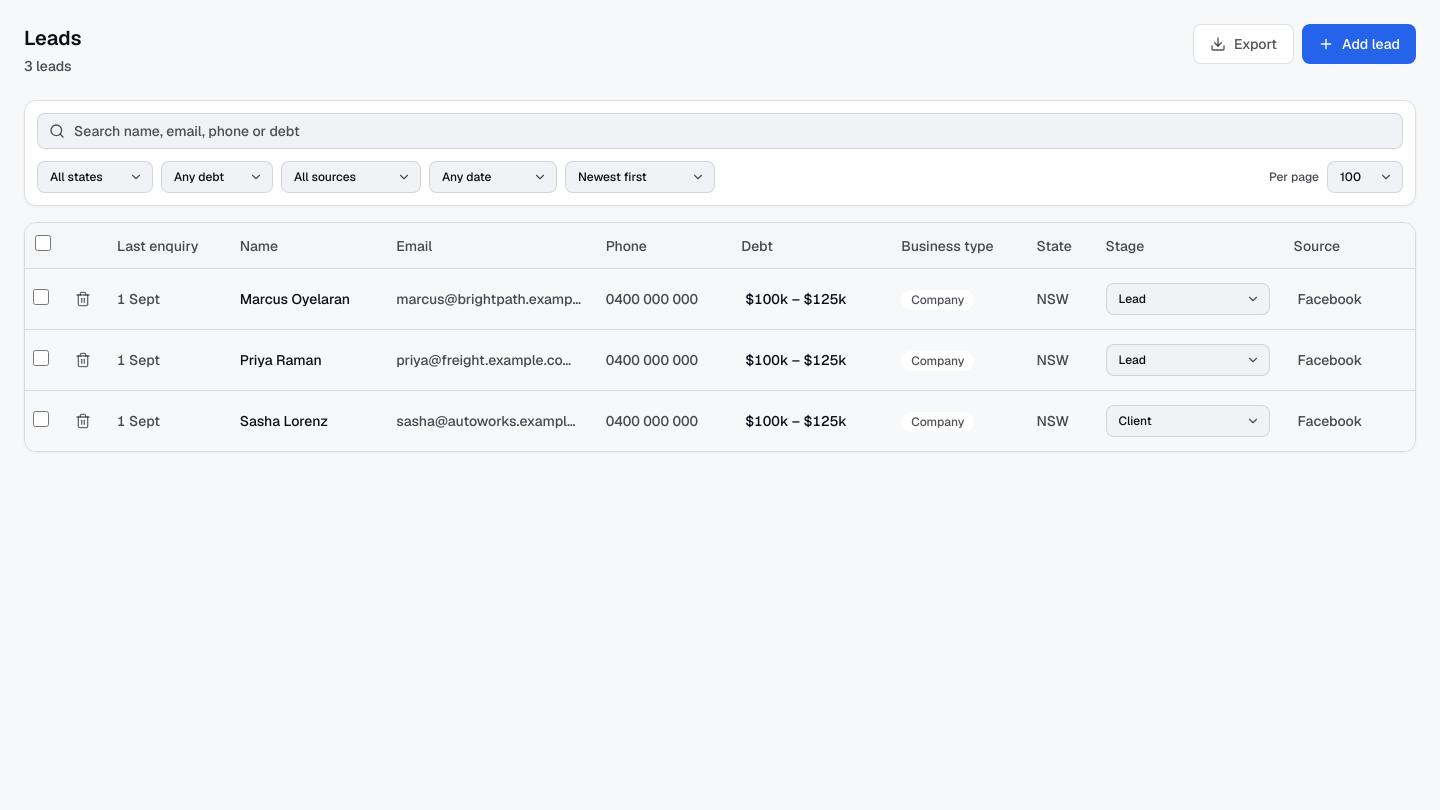
Scenario: deleting from the list › keeps the dialog open and says so when the delete fails
Click the button named "Delete Marcus Oyelaran": (83, 299) x1=69 y1=285 x2=97 y2=313
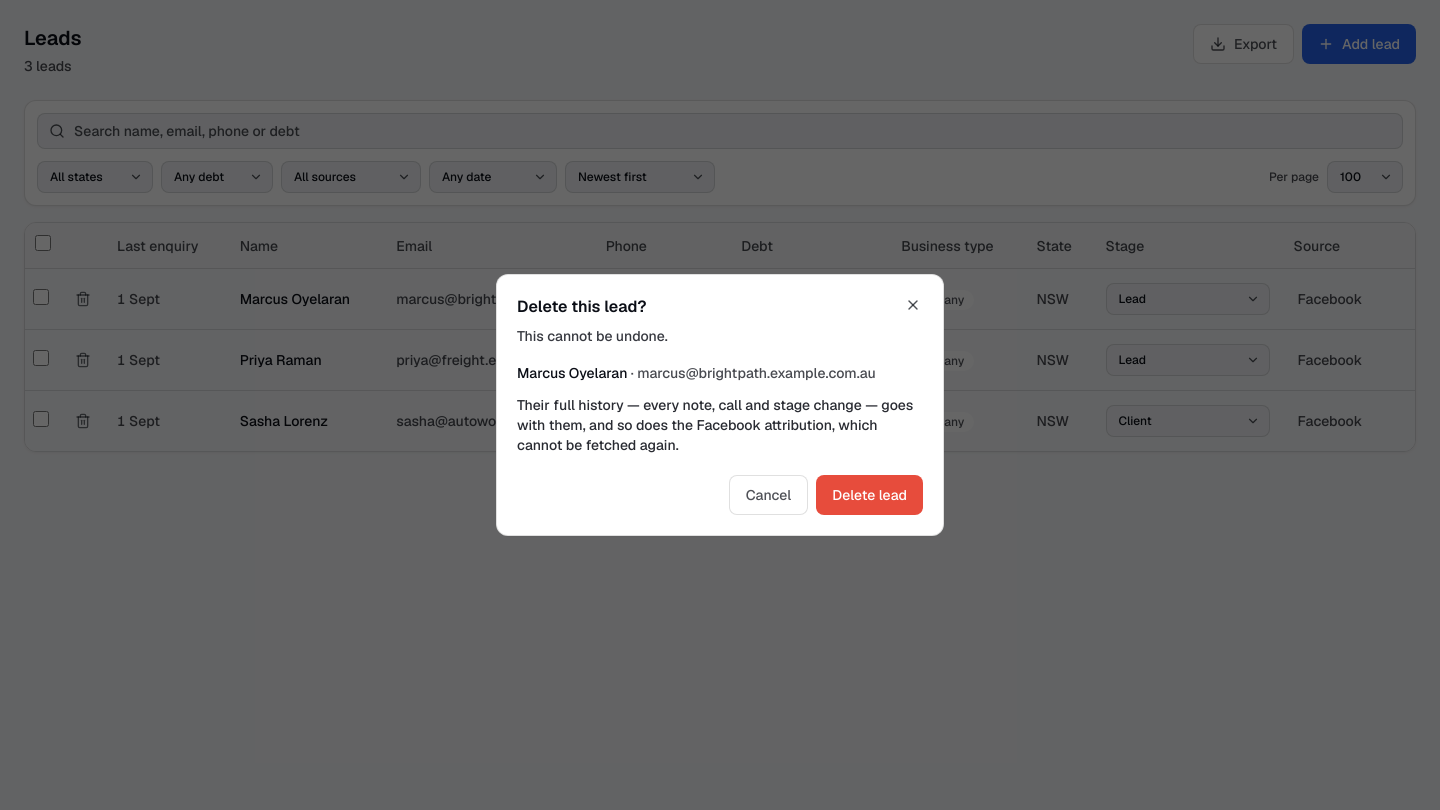
Click the button "Delete lead": (870, 495) x1=816 y1=475 x2=923 y2=515
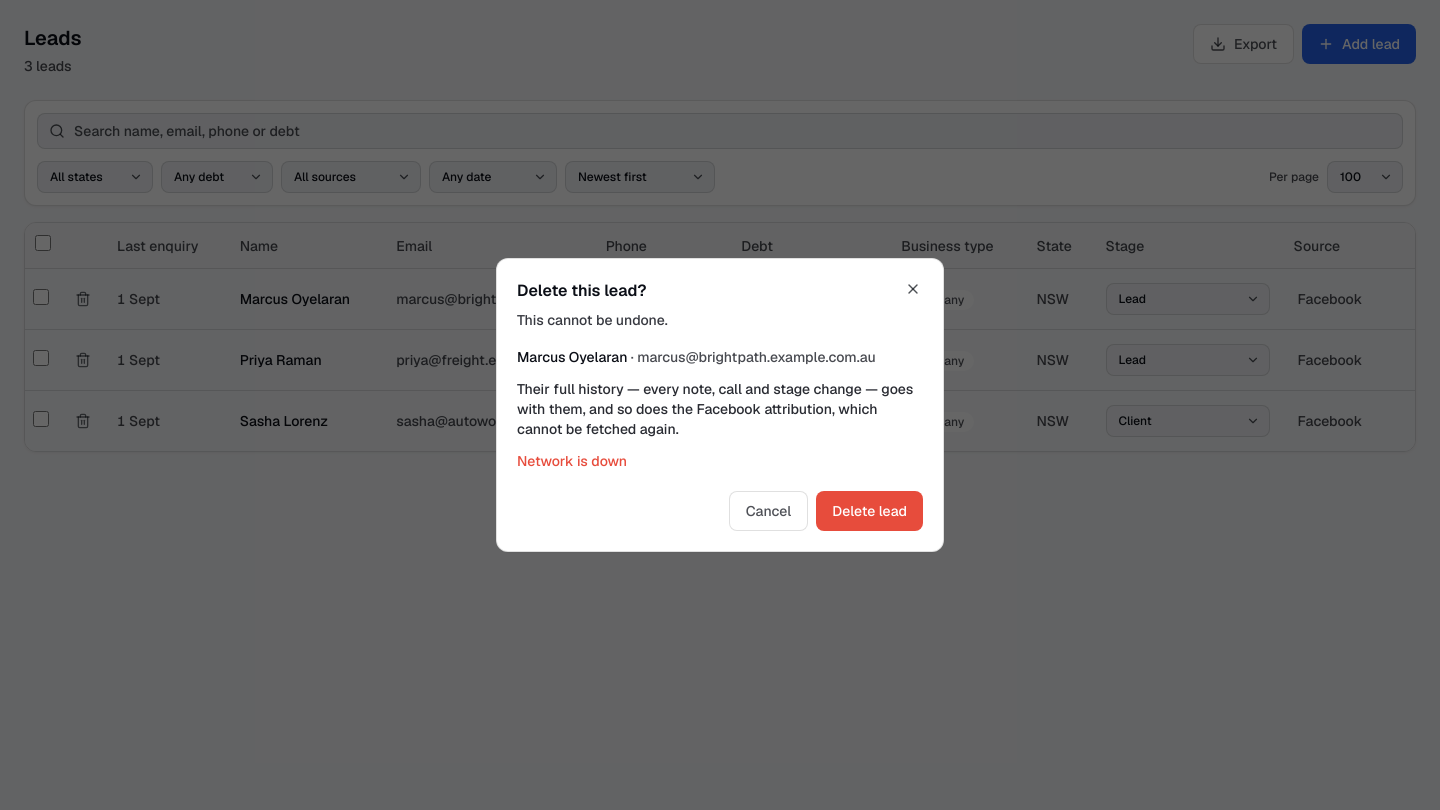
Expected: the link "Marcus Oyelaran" is shown, x1=240 y1=290 x2=350 y2=308
Expected: the dialog is shown, x1=496 y1=258 x2=944 y2=552
Expected: the message reads "Network is down", x1=517 y1=452 x2=627 y2=470
